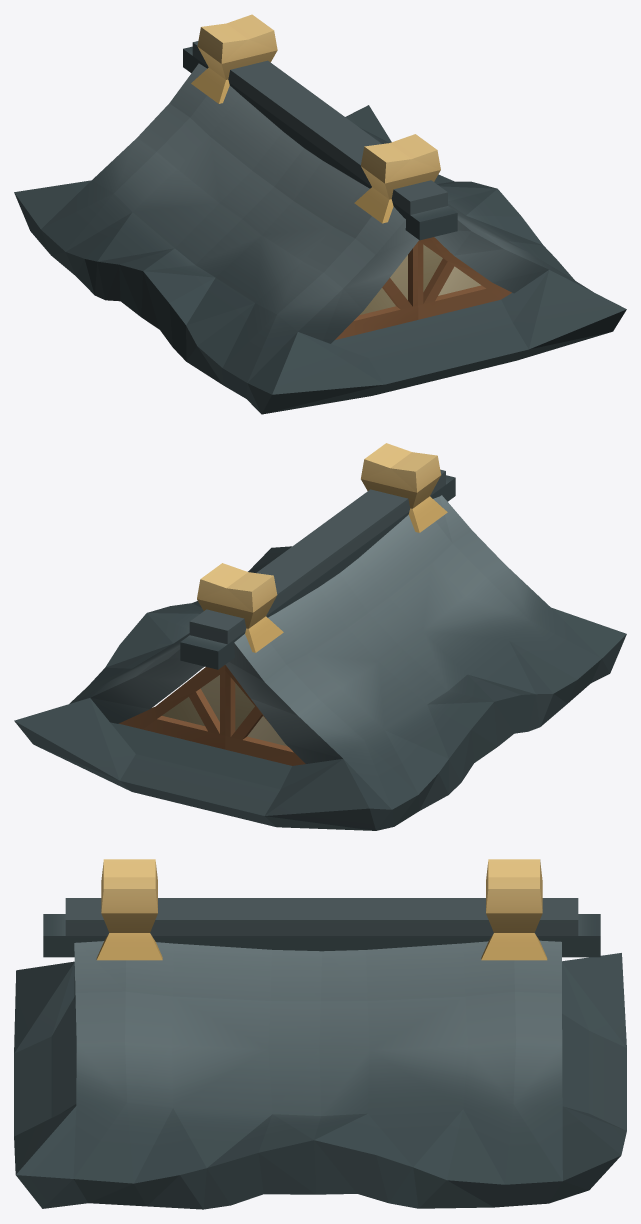
The model's file is Shrine_RoofFull.gltf.
3 renders of one model, top to bottom at view 1: azimuth 30°, elevation 25°; view 2: azimuth 150°, elevation 25°; view 3: azimuth 270°, elevation 25°, orthographic. The views are drawn at different scales.
Visible parts, largest first — view 1: Shrine_RoofFull; view 2: Shrine_RoofFull; view 3: Shrine_RoofFull.
Boxes of the visible parts, x1,y1,x2,y2 form: Shrine_RoofFull: [14, 14, 626, 414]; Shrine_RoofFull: [14, 443, 626, 830]; Shrine_RoofFull: [14, 859, 626, 1209].
Size of the model in its own units: 4.67 by 2.57 by 5.92.
Materials: 1 (1 with a texture image).
